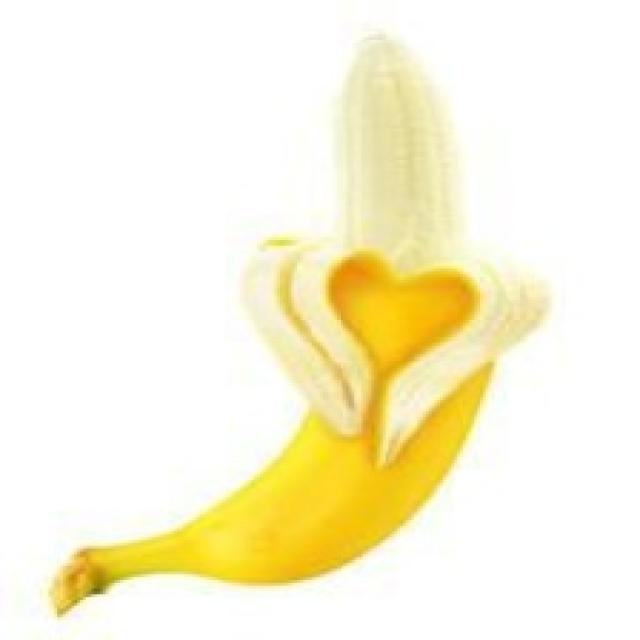Banana: (46, 26, 551, 617)
